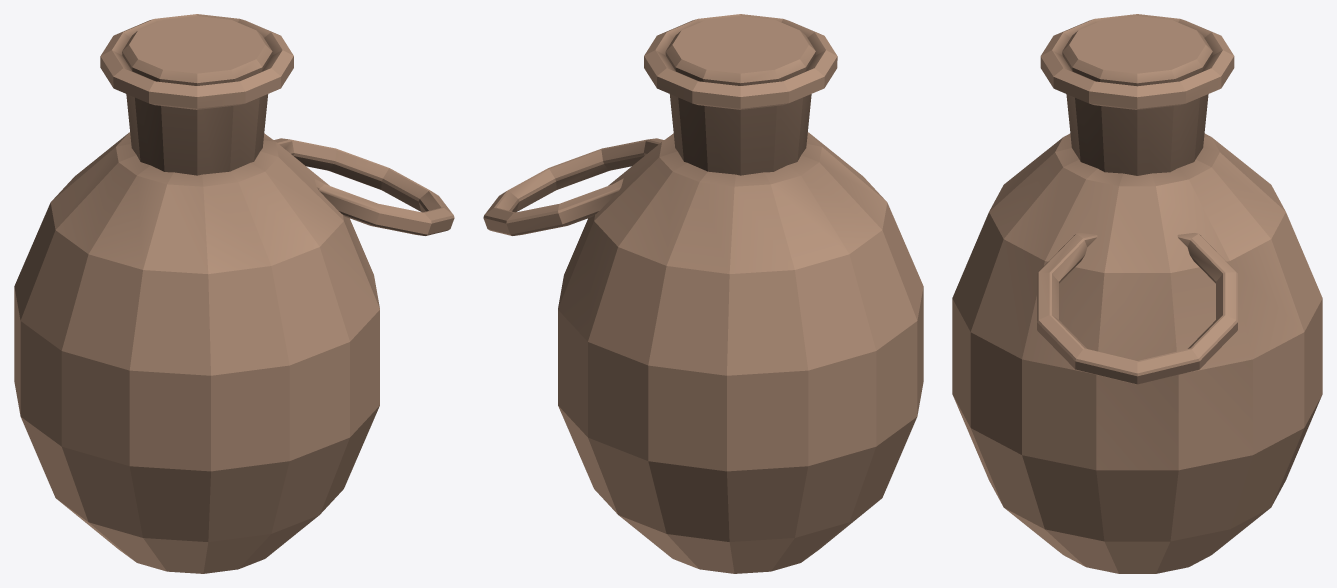
File: p_waterjug.glb
3 views of the same model, side by side, from view 1: azimuth 30°, elevation 25°; view 2: azimuth 150°, elevation 25°; view 3: azimuth 270°, elevation 25° (orthographic).
Parts seen in each view (by area): view 1: waterjug; view 2: waterjug; view 3: waterjug.
Part boxes in pixels (<box>): waterjug: <box>14,14,454,573</box>; waterjug: <box>483,14,923,573</box>; waterjug: <box>952,14,1322,573</box>.
Size of the model in its own units: 0.4852 by 0.6 by 0.39.
